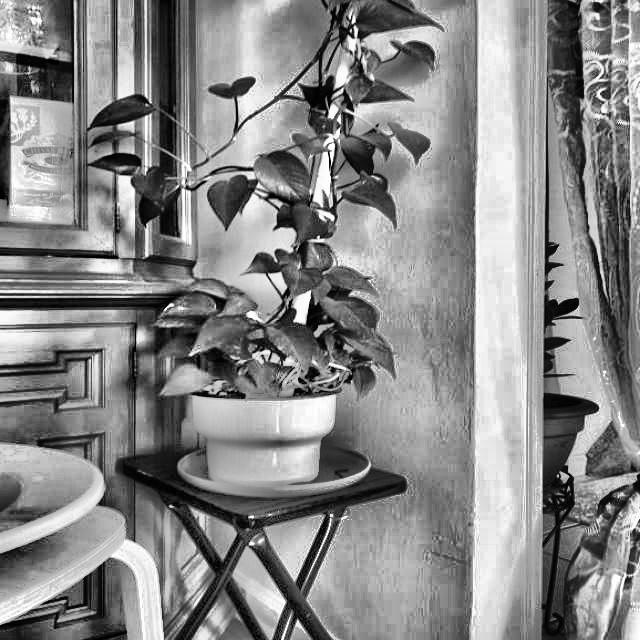plants: (129, 27, 406, 438)
